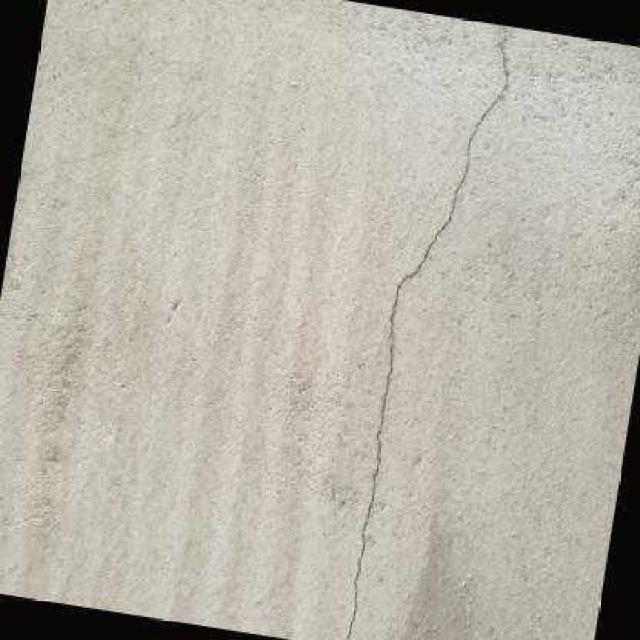D00: (346, 35, 507, 640)
